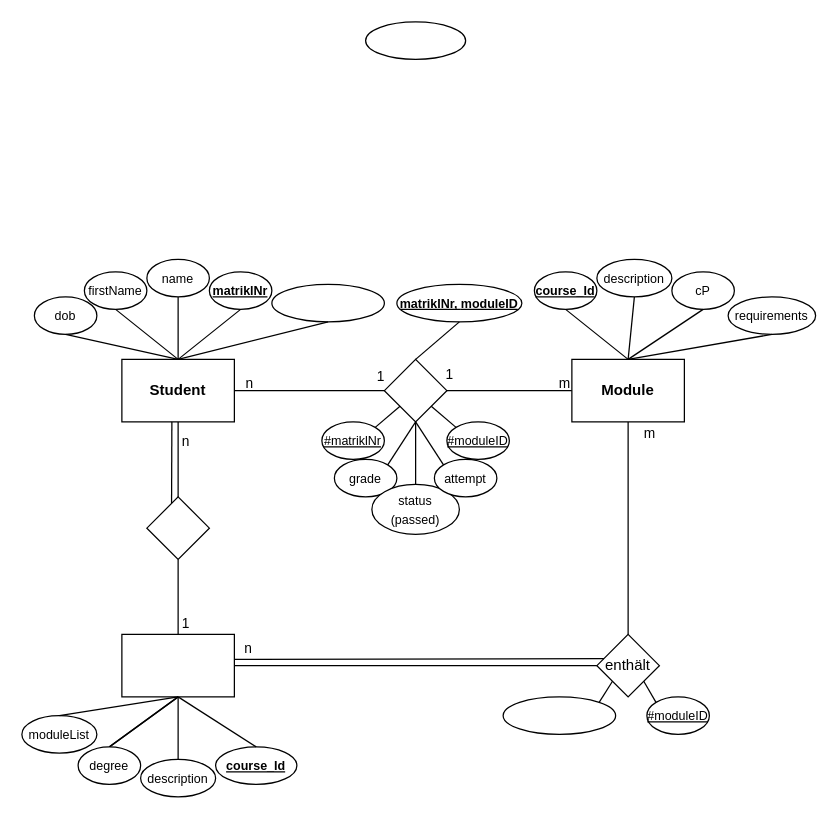
The diagram is 838 pixels wide and 819 high, and some of its shapes have lost their labels. The centre of each missing label's shape, as x and y in pixels:
#course_Id: point (327, 302)
#studiengangsID: point (559, 715)
prüfungsdaten: point (415, 40)
signUp: point (415, 390)
Studiengang: point (177, 665)
studiert: point (177, 527)
